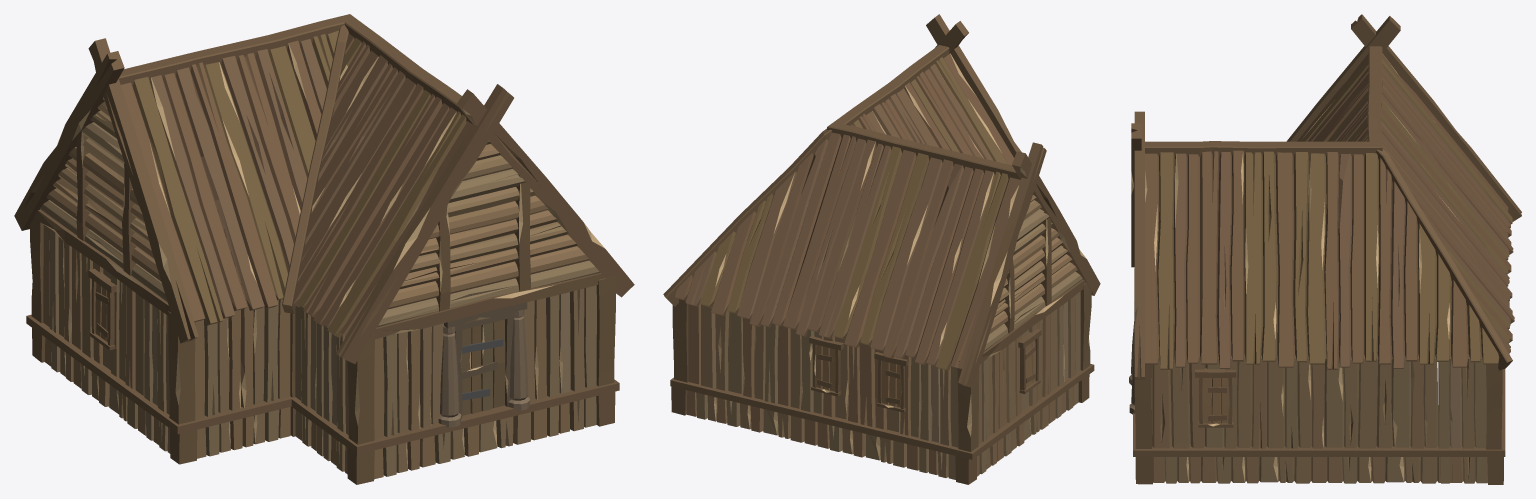
File: rpghouse5.obj
3 views of the same model, side by side, from view 1: azimuth 30°, elevation 25°; view 2: azimuth 150°, elevation 25°; view 3: azimuth 270°, elevation 25° (orthographic). The views are drawn at different scales.
Parts seen in each view (by area): view 1: rpgpp_lt_building_05; view 2: rpgpp_lt_building_05; view 3: rpgpp_lt_building_05.
Boxes of the visible parts, left/top/right/bottom form: rpgpp_lt_building_05: left=14, top=14, right=634, bottom=484; rpgpp_lt_building_05: left=663, top=14, right=1100, bottom=484; rpgpp_lt_building_05: left=1129, top=14, right=1521, bottom=484.
Bounding box in the file's own units: 11.26 × 9.94 × 11.31.
1 material, 1 textured.
